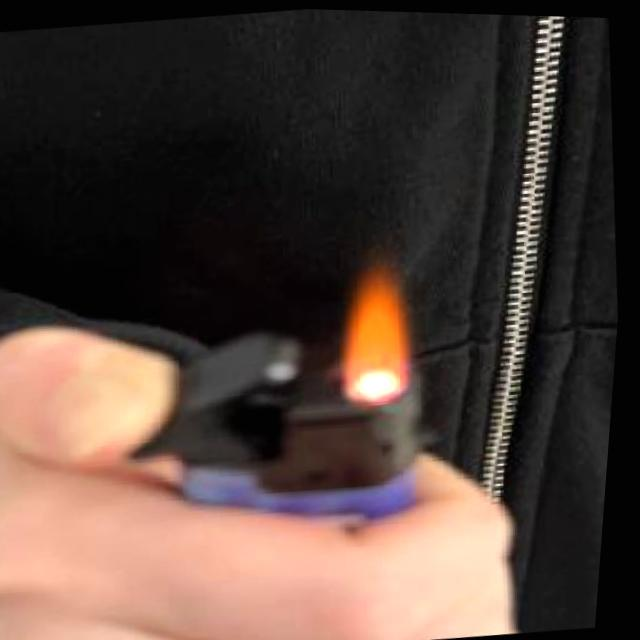fire: (337, 262, 423, 396)
